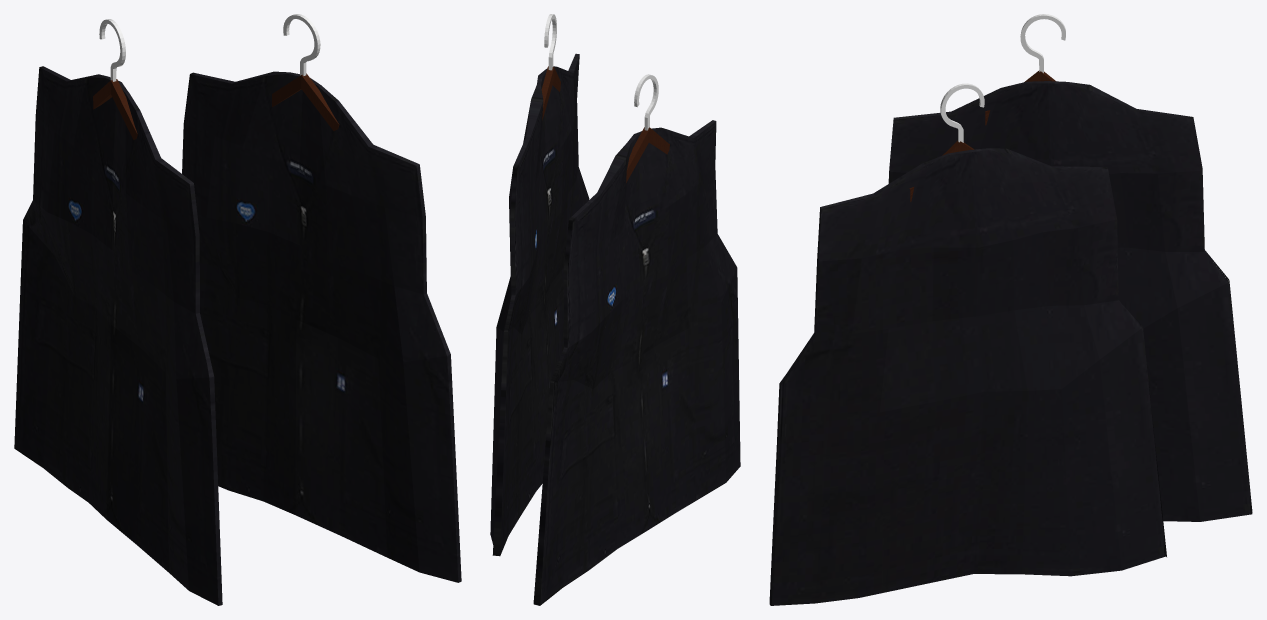
The model's file is vest.glb.
3 renders of one model, left to right at view 1: azimuth 30°, elevation 25°; view 2: azimuth 150°, elevation 25°; view 3: azimuth 270°, elevation 25°, orthographic. The views are drawn at different scales.
Parts seen in each view (by area): view 1: Plane.358; view 2: Plane.358; view 3: Plane.358.
Part boxes in pixels (x1,y1,x2,y2): Plane.358: (14, 14, 461, 605); Plane.358: (490, 14, 740, 605); Plane.358: (769, 14, 1252, 605).
Bounding box in the file's own units: 0.1431 × 0.3194 × 0.2833.
3 materials, 3 textured.
